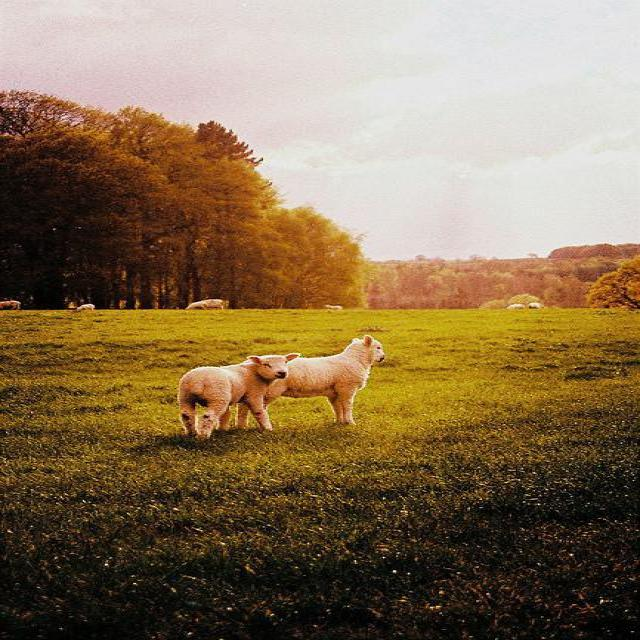Sheep: (266, 334, 390, 424), (178, 355, 298, 442)
